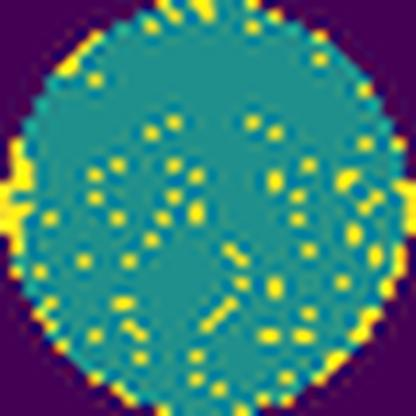Edge-Loc: (0, 130, 39, 260), (391, 176, 416, 242)
